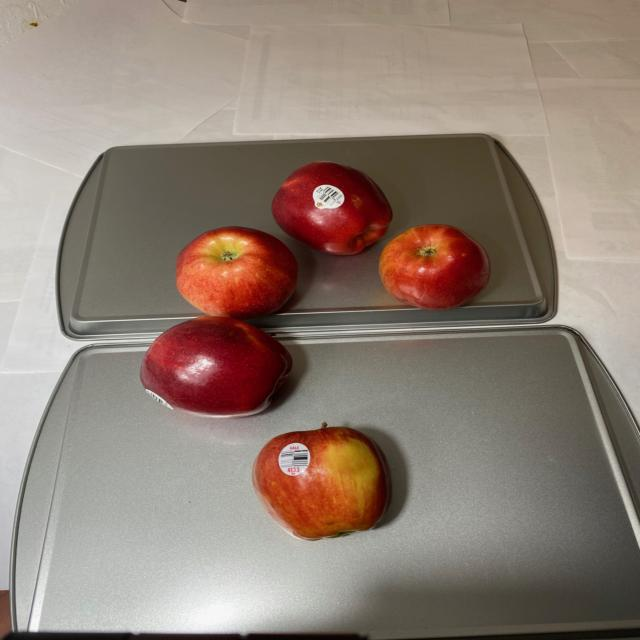apple: (134, 161, 492, 417), (252, 421, 400, 545)
